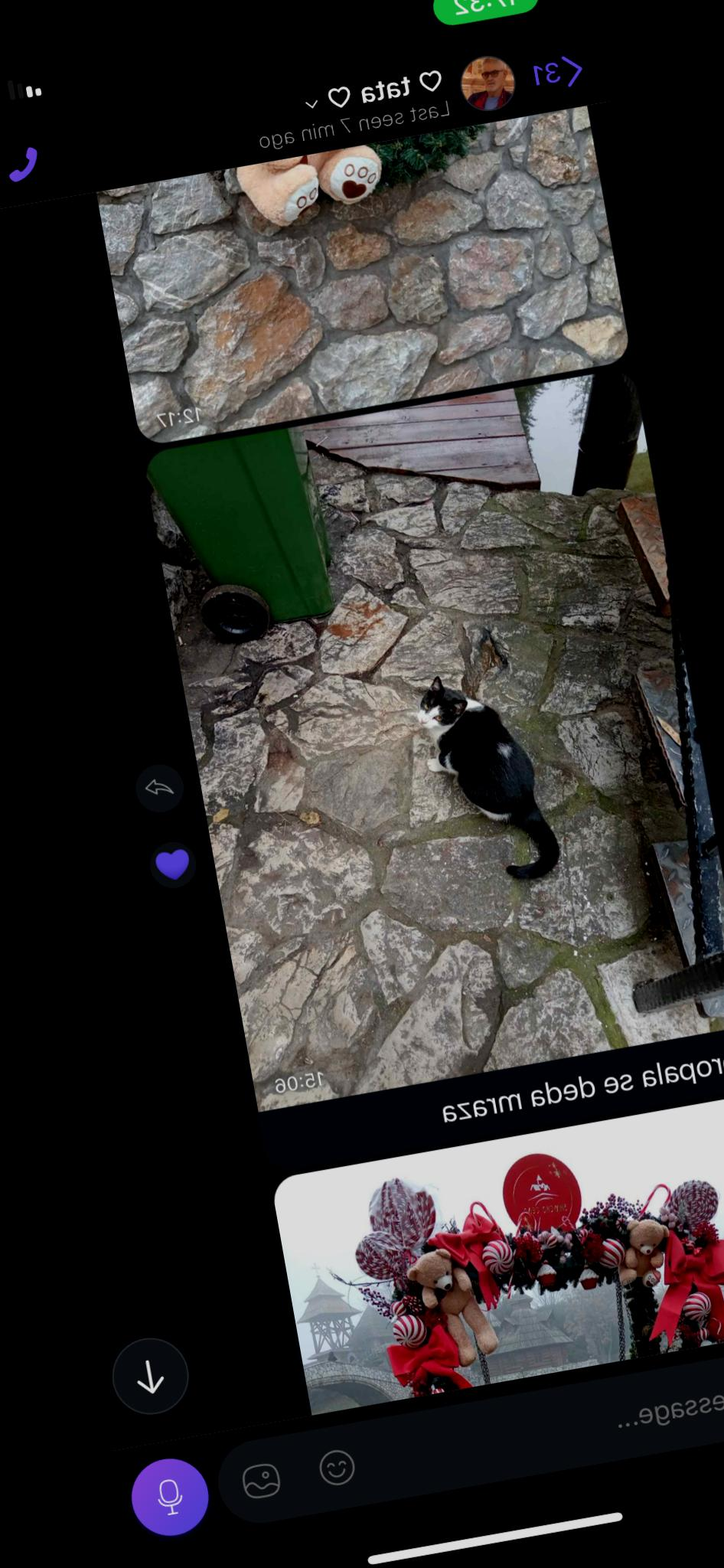macka: (411, 660, 564, 898)
